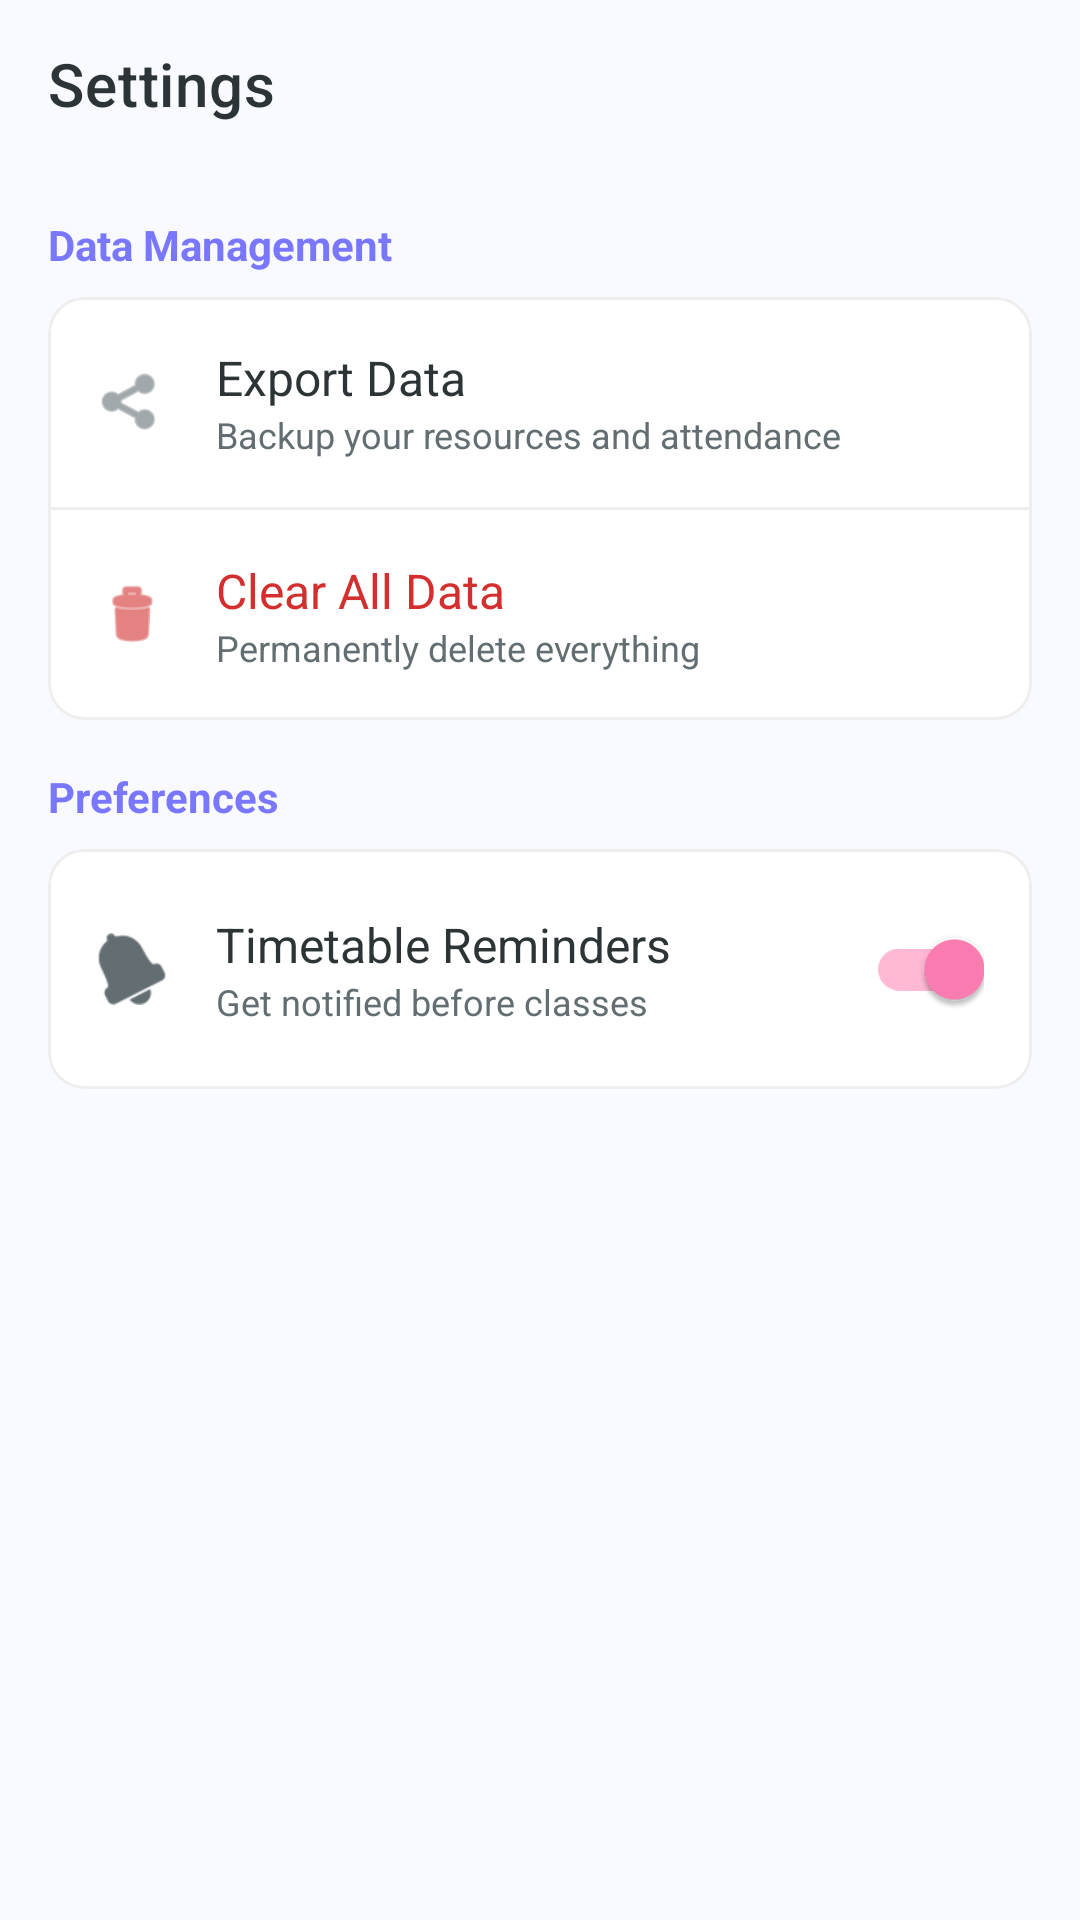

Icon click points for this 1080px x 1920px phone screenshot, format (x,y):
popup reminder: (132,969)
share: (128,402)
